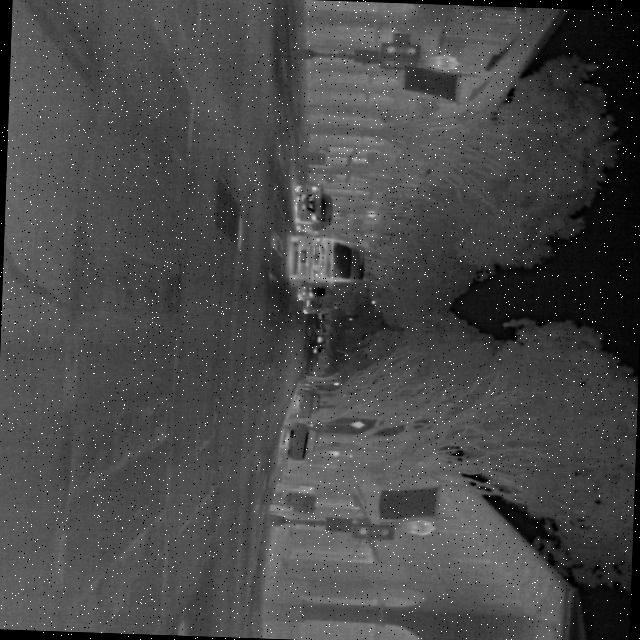Vehicle: (286, 232, 368, 287), (292, 182, 336, 232)
